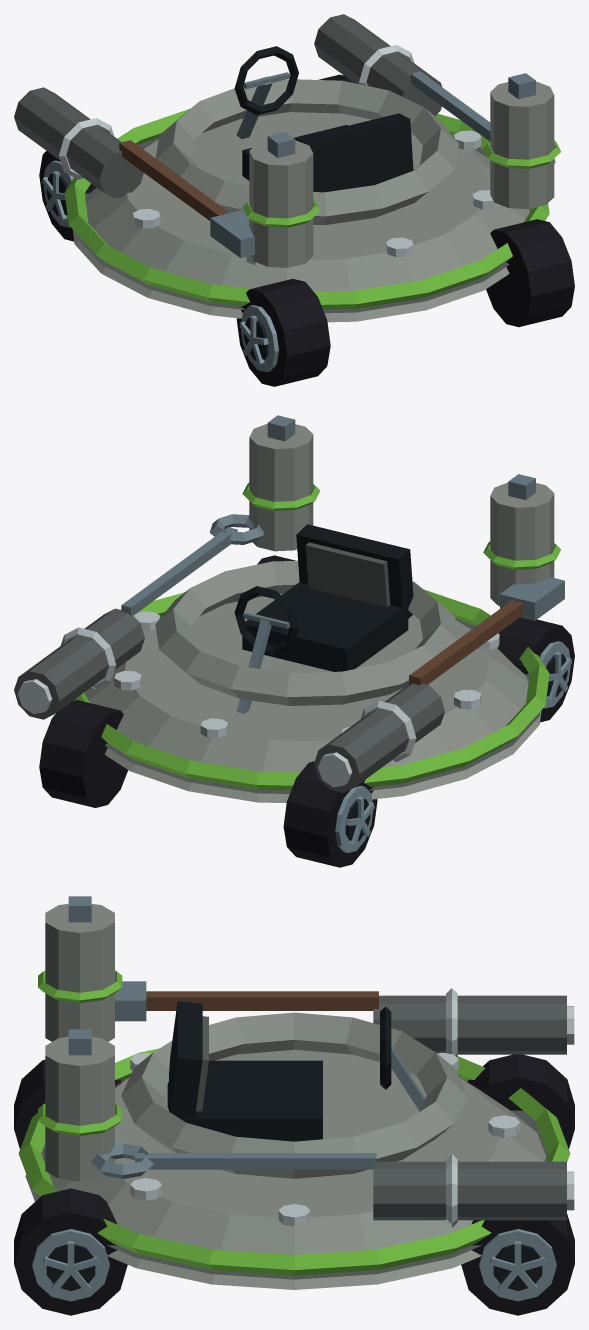
Rendered from kart.glb.
The picture shows the model from 3 angles, top to bottom: view 1: azimuth 30°, elevation 25°; view 2: azimuth 150°, elevation 25°; view 3: azimuth 270°, elevation 25°; orthographic projection. The views are drawn at different scales.
Parts seen in each view (by area): view 1: identity-saucer-saucer-double-rim, identity-saucer-motif-tanks, identity-saucer-motif-plasma, identity-saucer-driver-cockpit, wheel-rear-left, wheel-rear-right, identity-saucer-motif-tools, wheel-front-left; view 2: identity-saucer-saucer-double-rim, identity-saucer-driver-cockpit, identity-saucer-motif-plasma, identity-saucer-motif-tanks, identity-saucer-motif-tools, wheel-front-right, wheel-front-left, wheel-rear-left; view 3: identity-saucer-saucer-double-rim, identity-saucer-motif-plasma, identity-saucer-motif-tanks, identity-saucer-driver-cockpit, identity-saucer-motif-tools, wheel-rear-right, wheel-front-right, wheel-front-left, wheel-rear-left.
Part boxes in pixels (left/top/right/bottom): identity-saucer-saucer-double-rim: left=64, top=79, right=549, bottom=322; identity-saucer-motif-tanks: left=242, top=73, right=560, bottom=267; identity-saucer-motif-plasma: left=14, top=14, right=441, bottom=198; identity-saucer-driver-cockpit: left=234, top=46, right=413, bottom=192; wheel-rear-left: left=236, top=278, right=330, bottom=386; wheel-rear-right: left=486, top=219, right=574, bottom=327; identity-saucer-motif-tools: left=119, top=71, right=555, bottom=257; wheel-front-left: left=39, top=151, right=96, bottom=241; identity-saucer-saucer-double-rim: left=73, top=560, right=549, bottom=802; identity-saucer-driver-cockpit: left=234, top=524, right=413, bottom=713; identity-saucer-motif-plasma: left=14, top=608, right=444, bottom=792; identity-saucer-motif-tanks: left=242, top=415, right=560, bottom=605; identity-saucer-motif-tools: left=121, top=514, right=564, bottom=685; wheel-front-right: left=39, top=700, right=128, bottom=807; wheel-front-left: left=283, top=761, right=377, bottom=867; wheel-rear-left: left=497, top=617, right=574, bottom=722; identity-saucer-saucer-double-rim: left=18, top=1012, right=570, bottom=1289; identity-saucer-motif-plasma: left=373, top=988, right=574, bottom=1227; identity-saucer-motif-tanks: left=38, top=896, right=122, bottom=1181; identity-saucer-driver-cockpit: left=167, top=1001, right=445, bottom=1141; identity-saucer-motif-tools: left=91, top=981, right=378, bottom=1178; wheel-rear-right: left=14, top=1188, right=127, bottom=1315; wheel-front-right: left=461, top=1214, right=574, bottom=1315; wheel-front-left: left=467, top=1054, right=574, bottom=1148; wheel-rear-left: left=14, top=1059, right=121, bottom=1148.
Size of the model in its own units: 2.42 by 1.3 by 2.46.
